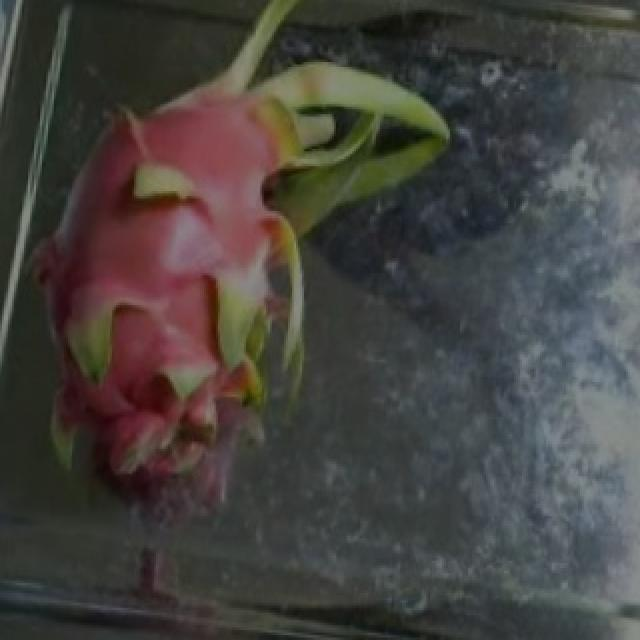fruit: (4, 5, 434, 476)
